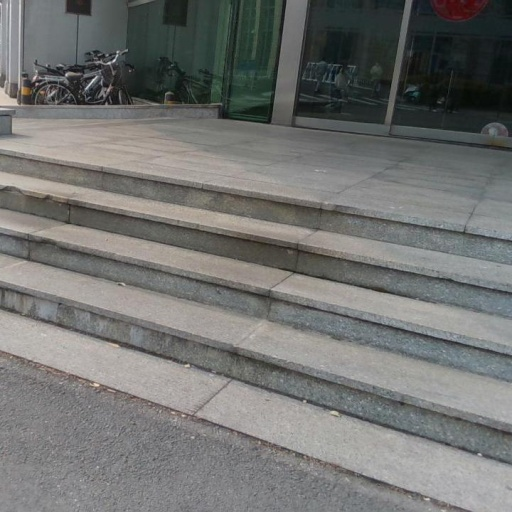Stairs: (0, 120, 512, 512)
